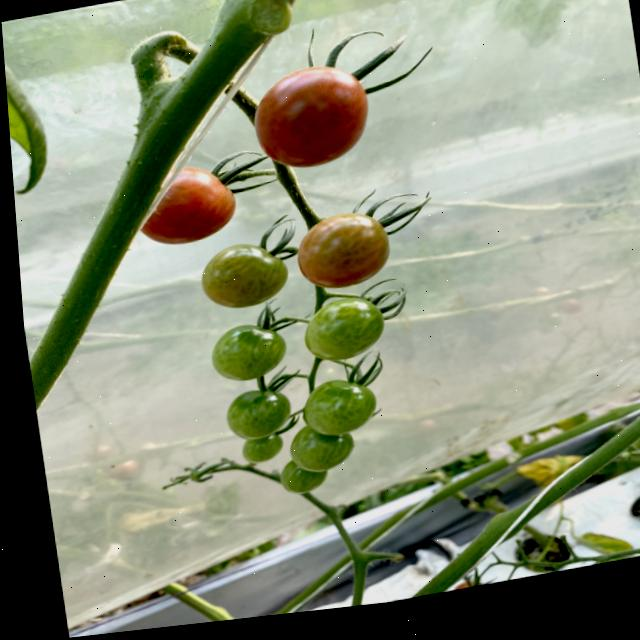ripe0: (197, 236, 292, 315), (301, 292, 388, 365), (208, 317, 289, 386), (299, 372, 379, 439), (223, 382, 295, 444), (289, 418, 359, 475), (277, 455, 327, 497), (238, 433, 285, 465)
ripe1: (293, 207, 394, 292)
ripe2: (247, 57, 376, 174), (141, 158, 241, 249)
